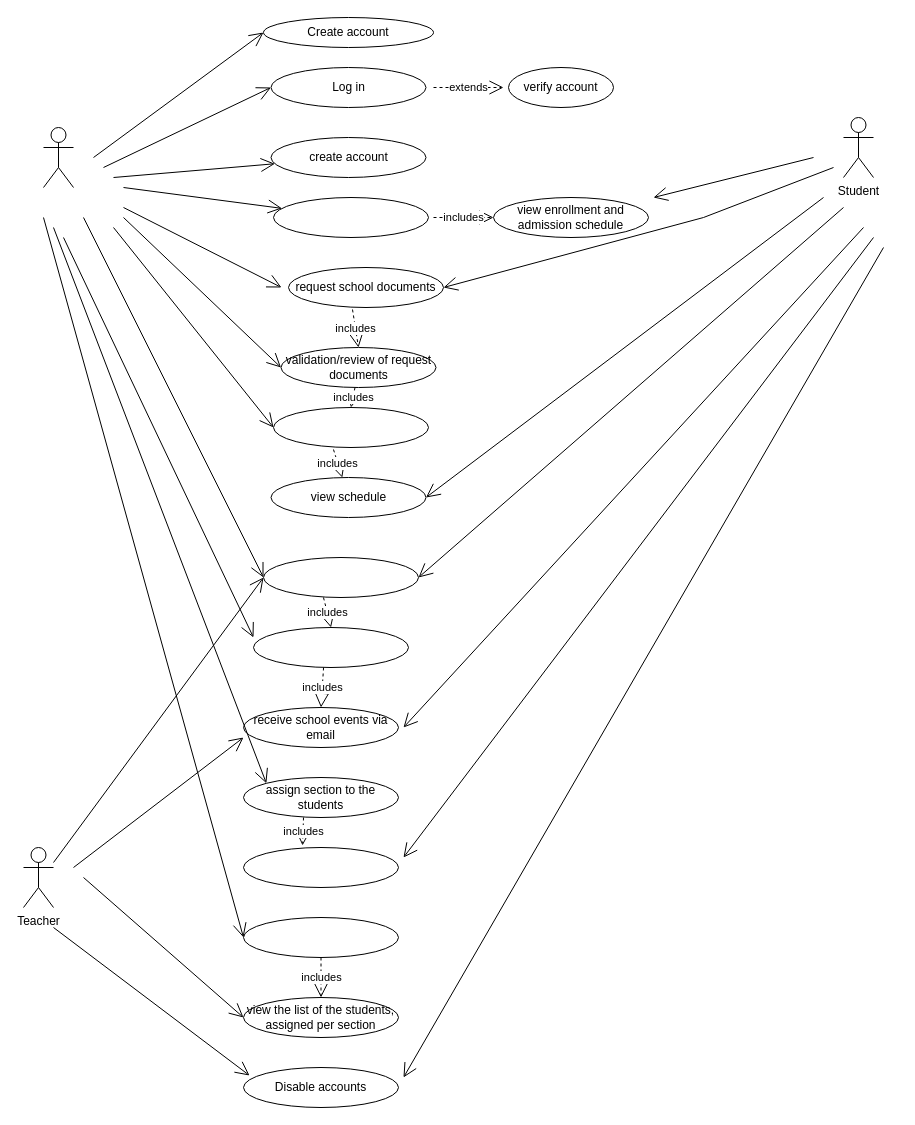
Image size: 915x1125. Some labels were removed from this diagram. The centre of each missing label's shape, as x and y in pixels:
"add school events" goes at [330,647].
"Admin" goes at [58,157].
"assign the teacher per section" goes at [320,937].
"Deped school calendar events" goes at [340,577].
"Set enrollment and admission dates" goes at [350,217].
"set schedule" goes at [350,427].
"view section" goes at [320,867].
